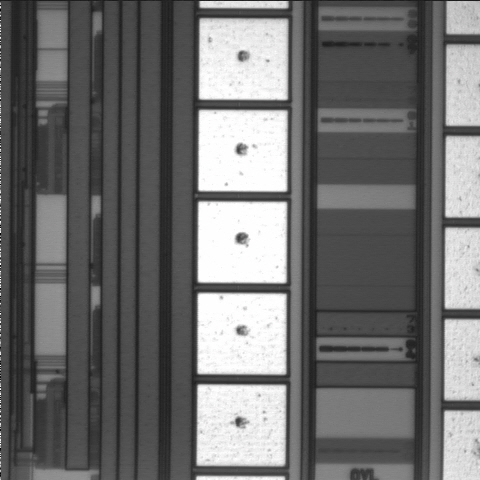pad: (198, 110, 287, 192), (198, 201, 287, 283), (198, 293, 286, 375), (199, 19, 288, 100), (197, 385, 286, 466)
